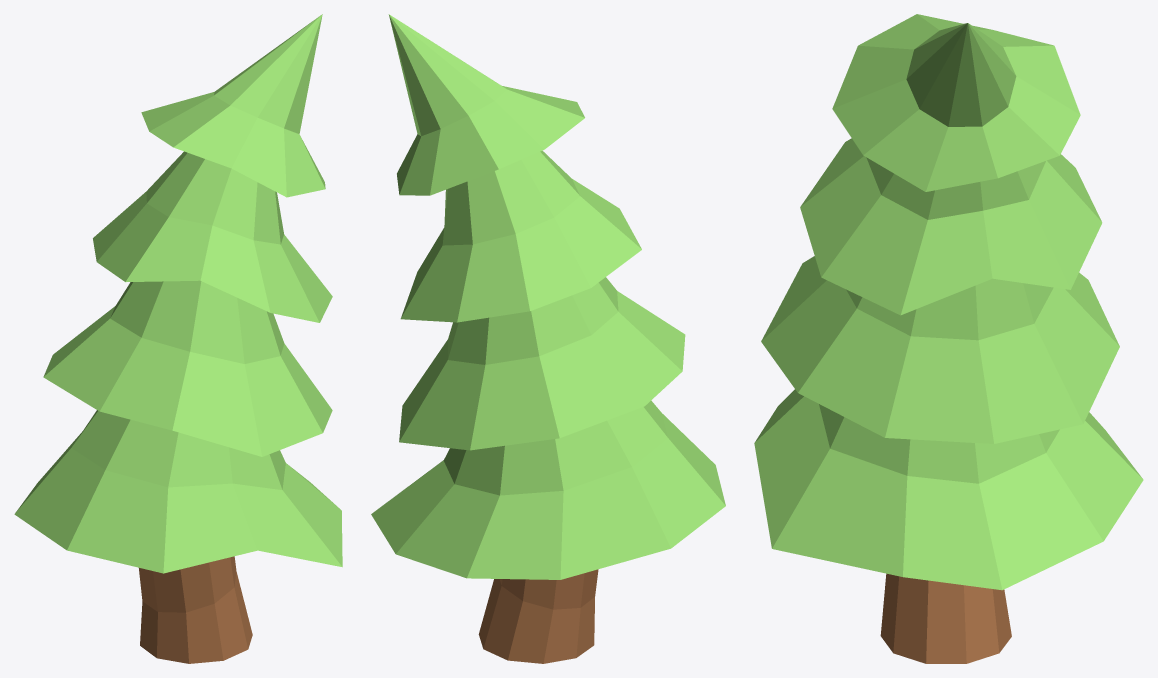
File: Tree2Rot.fbx
3 renders of one model, left to right at view 1: azimuth 30°, elevation 25°; view 2: azimuth 150°, elevation 25°; view 3: azimuth 270°, elevation 25°, orthographic. The views are drawn at different scales.
Visible parts, largest first — view 1: Tree2Rot; view 2: Tree2Rot; view 3: Tree2Rot.
Part boxes in pixels (x1,y1,x2,y2): Tree2Rot: (14, 14, 342, 663); Tree2Rot: (371, 14, 725, 663); Tree2Rot: (754, 14, 1143, 663).
Size of the model in its own units: 363 by 689 by 351.
